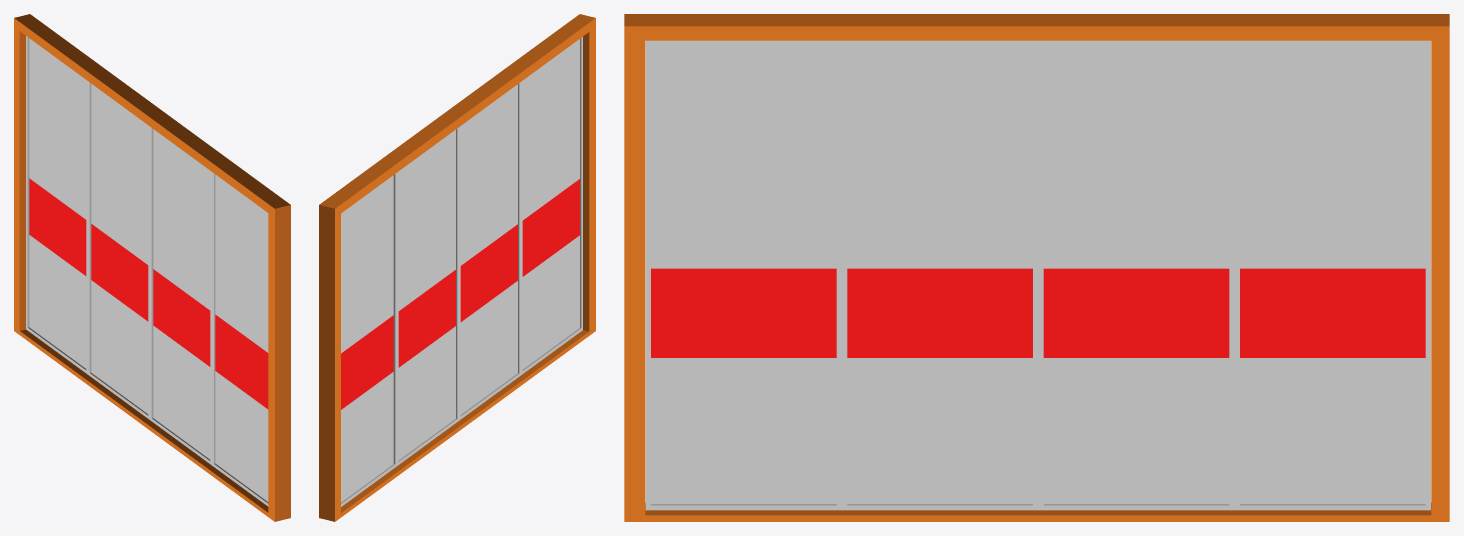
Rendered from Large Window.fbx.
The picture shows the model from 3 angles, left to right: view 1: azimuth 30°, elevation 25°; view 2: azimuth 150°, elevation 25°; view 3: azimuth 270°, elevation 25°; orthographic projection. The views are drawn at different scales.
Parts seen in each view (by area): view 1: Node 1, Node 0; view 2: Node 1, Node 0; view 3: Node 1, Node 0.
Part boxes in pixels (box(x1,y1,x2,y2)): Node 1: box(26, 36, 268, 506); Node 0: box(14, 14, 290, 521); Node 1: box(341, 37, 582, 506); Node 0: box(319, 14, 595, 521); Node 1: box(645, 40, 1430, 510); Node 0: box(624, 14, 1449, 521).
Size of the model in its own units: 3.58 by 2.37 by 0.1276.
